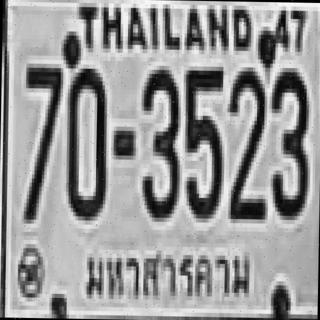N00: (63, 64, 105, 216)
N02: (227, 65, 266, 217)
N03: (139, 65, 179, 218), (268, 66, 308, 218)
N05: (182, 64, 222, 216)
N07: (21, 63, 61, 220), (21, 63, 60, 191)
P25: (85, 246, 254, 312)
